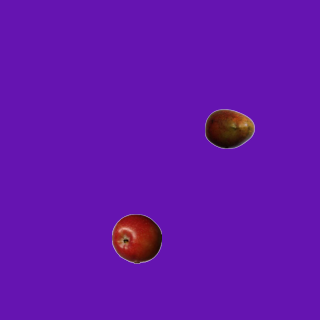Apple Braeburn: (111, 213, 161, 263)
Mango Red: (204, 103, 254, 153)
